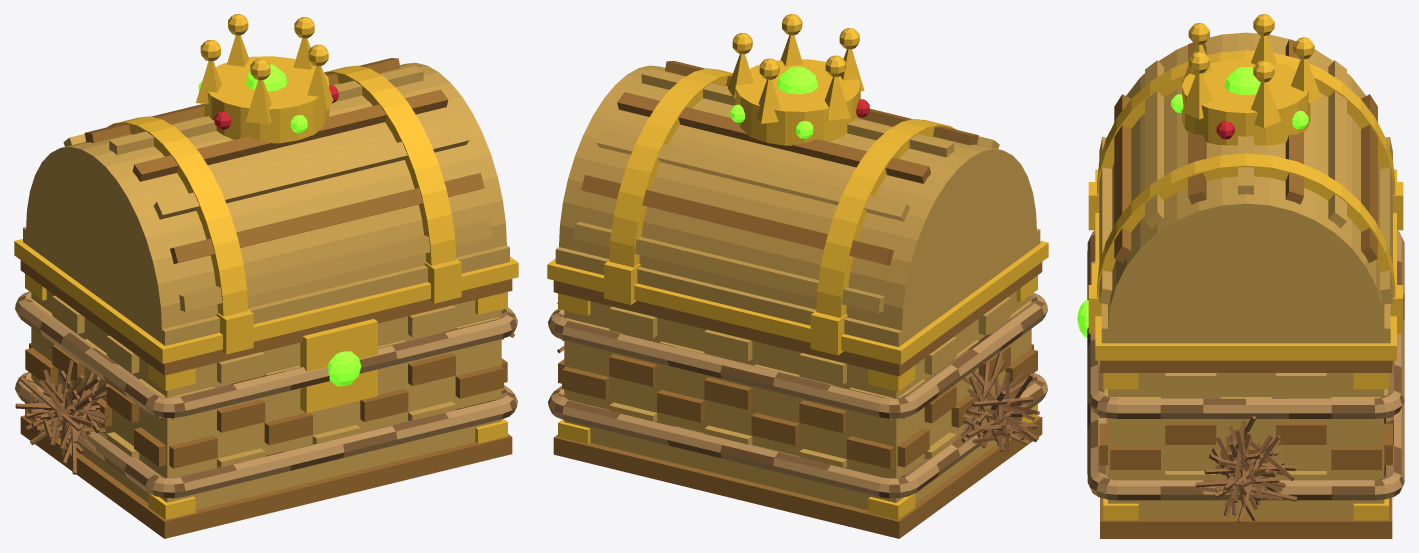
File: boss_chest_tumbleweed_king.glb
The picture shows the model from 3 angles, left to right: view 1: azimuth 30°, elevation 25°; view 2: azimuth 150°, elevation 25°; view 3: azimuth 270°, elevation 25°; orthographic projection. The views are drawn at different scales.
Visible parts, largest first — view 1: Lid, Body; view 2: Lid, Body; view 3: Lid, Body.
Part boxes in pixels (left/top/right/bottom): Lid: left=14, top=14, right=518, bottom=363; Body: left=15, top=260, right=517, bottom=538; Lid: left=547, top=14, right=1048, bottom=364; Body: left=548, top=262, right=1047, bottom=538; Lid: left=1088, top=14, right=1403, bottom=360; Body: left=1077, top=230, right=1404, bottom=538.
Size of the model in its own units: 1.8 by 1.42 by 1.02.
